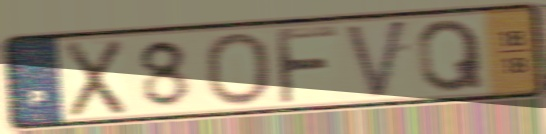8: (136, 37, 197, 109)
F: (272, 24, 342, 107)
O: (201, 30, 274, 108)
Q: (414, 16, 488, 95)
V: (341, 16, 411, 103)
X: (62, 36, 129, 121)
